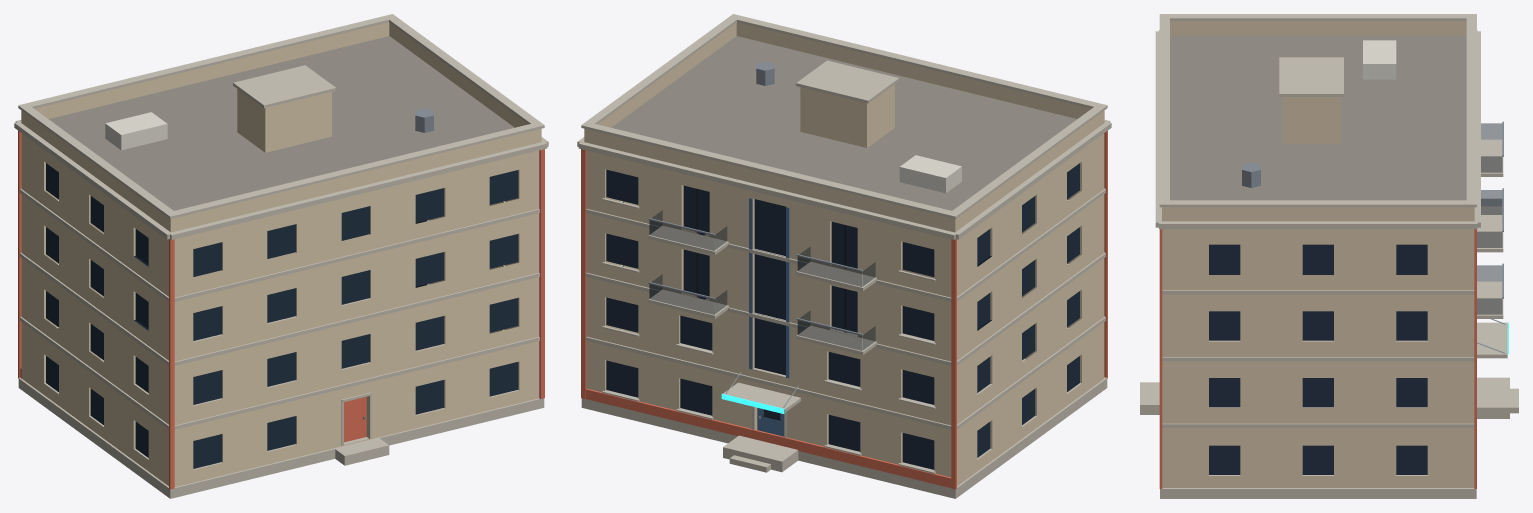
Rendered from bld_apartment_small.glb.
The picture shows the model from 3 angles, left to right: view 1: azimuth 30°, elevation 25°; view 2: azimuth 150°, elevation 25°; view 3: azimuth 270°, elevation 25°; orthographic projection. The views are drawn at different scales.
Visible parts, largest first — view 1: Body; view 2: Body; view 3: Body.
Boxes of the visible parts, x1,y1,x2,y2 form: Body: [14, 14, 548, 498]; Body: [577, 14, 1111, 498]; Body: [1140, 14, 1518, 498].
Size of the model in its own units: 20.6 by 16.25 by 17.
